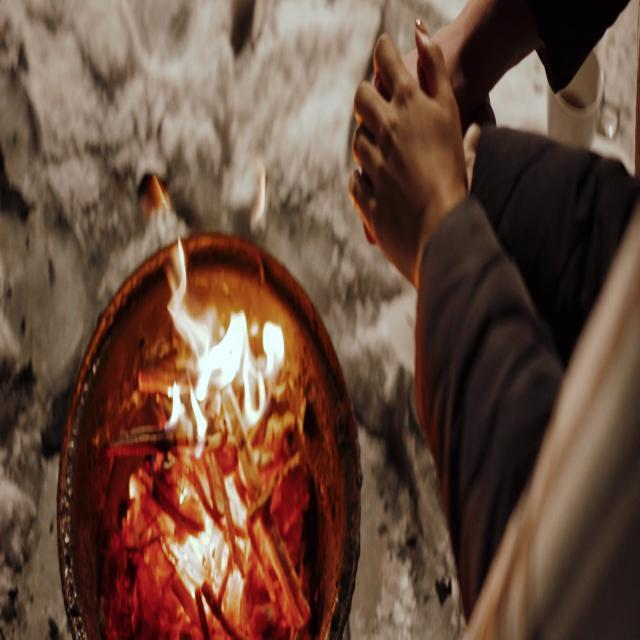Fire: (142, 240, 293, 610)
